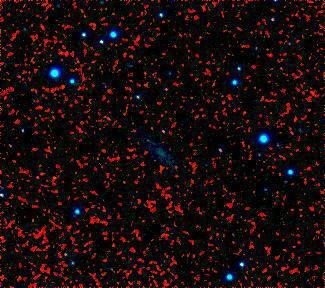star: (43, 163, 73, 193)
